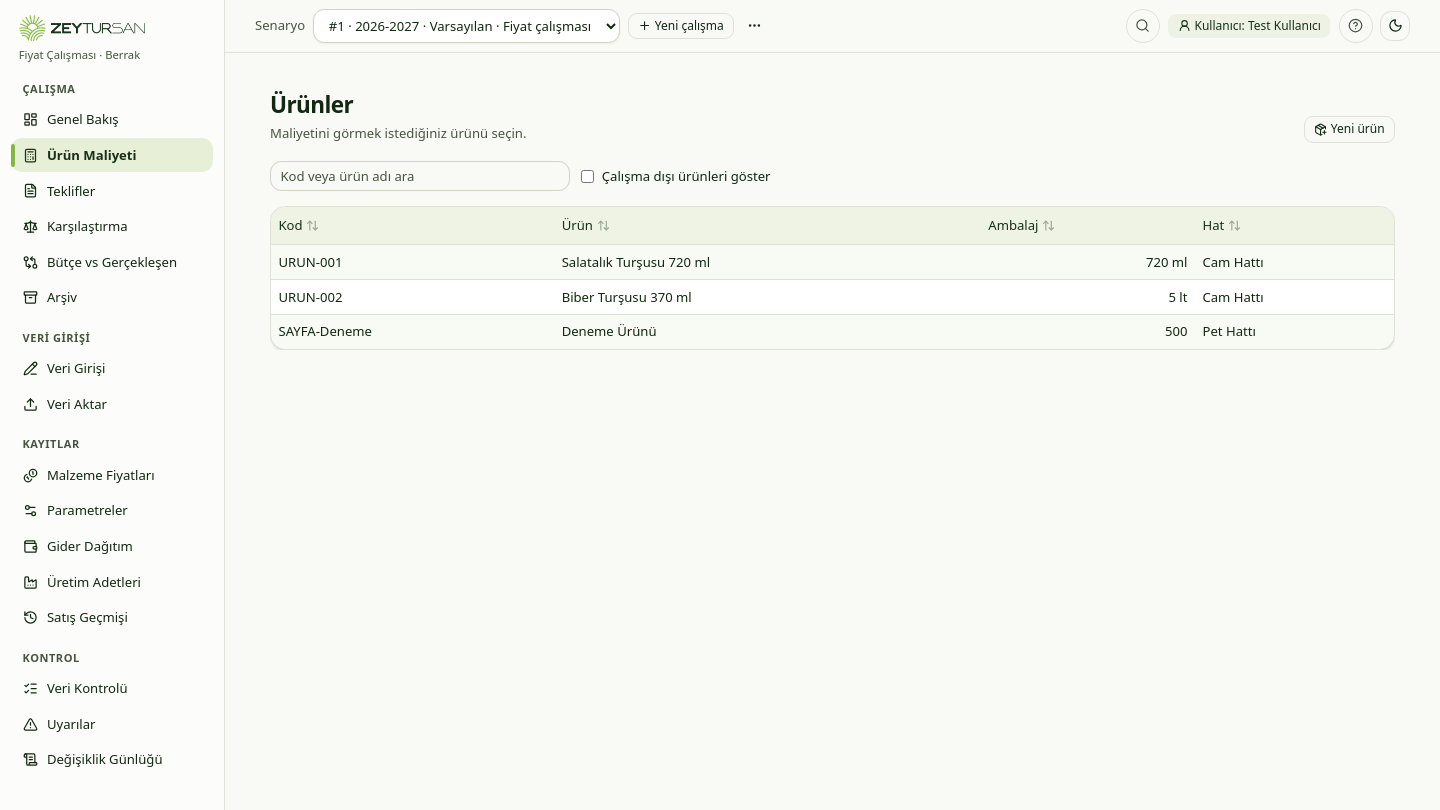
yönlendirme › ürün seçicide kod/ad ile arama yapılır
Expected: the text "URUN-001" is shown, [271,245,554,280]
Step 1. Type "URUN-002" into the search field named "Ürün ara" → (420, 176), box [270,161,570,191]
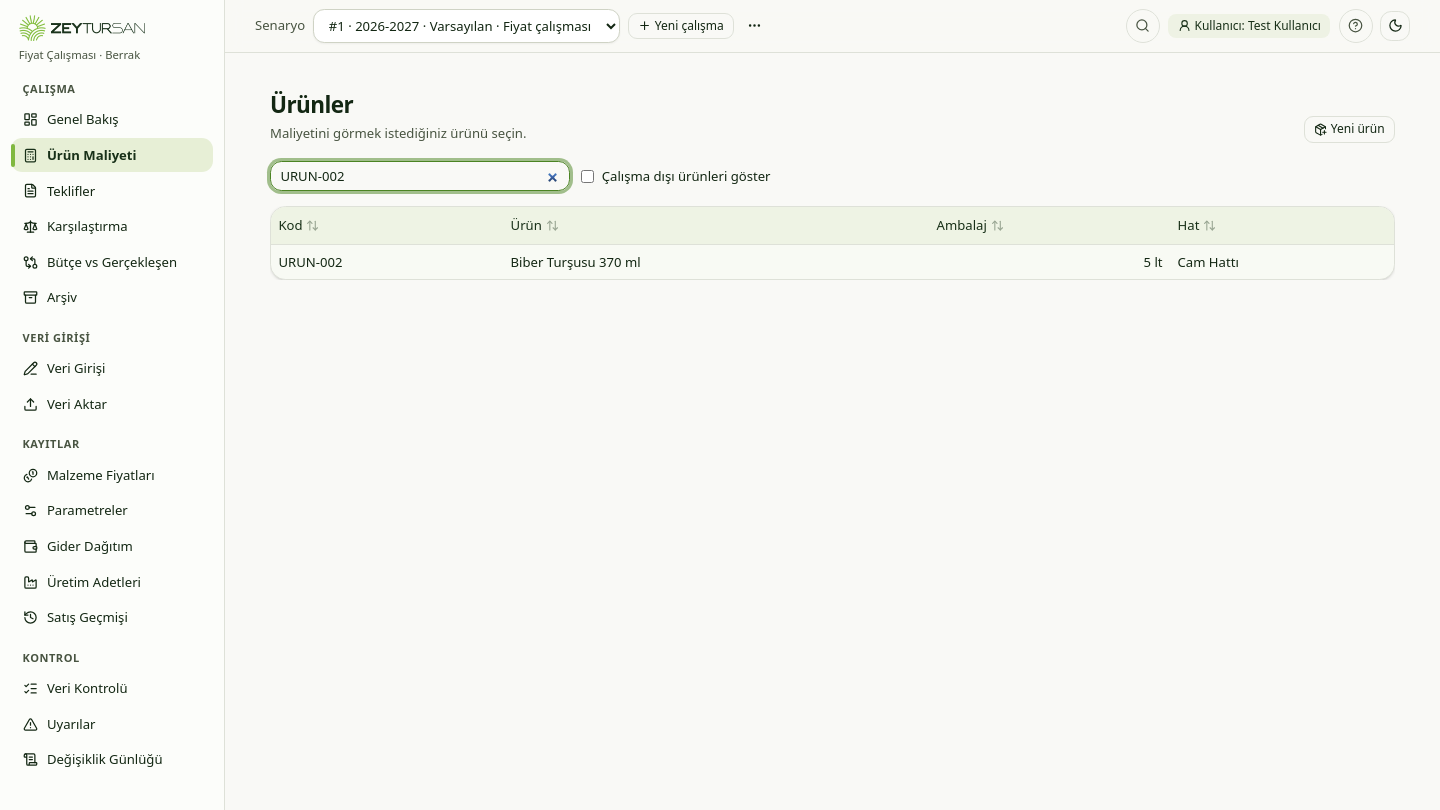
Expected: the text "URUN-001" is gone
Expected: the text "URUN-002" is shown, [271,245,503,279]
